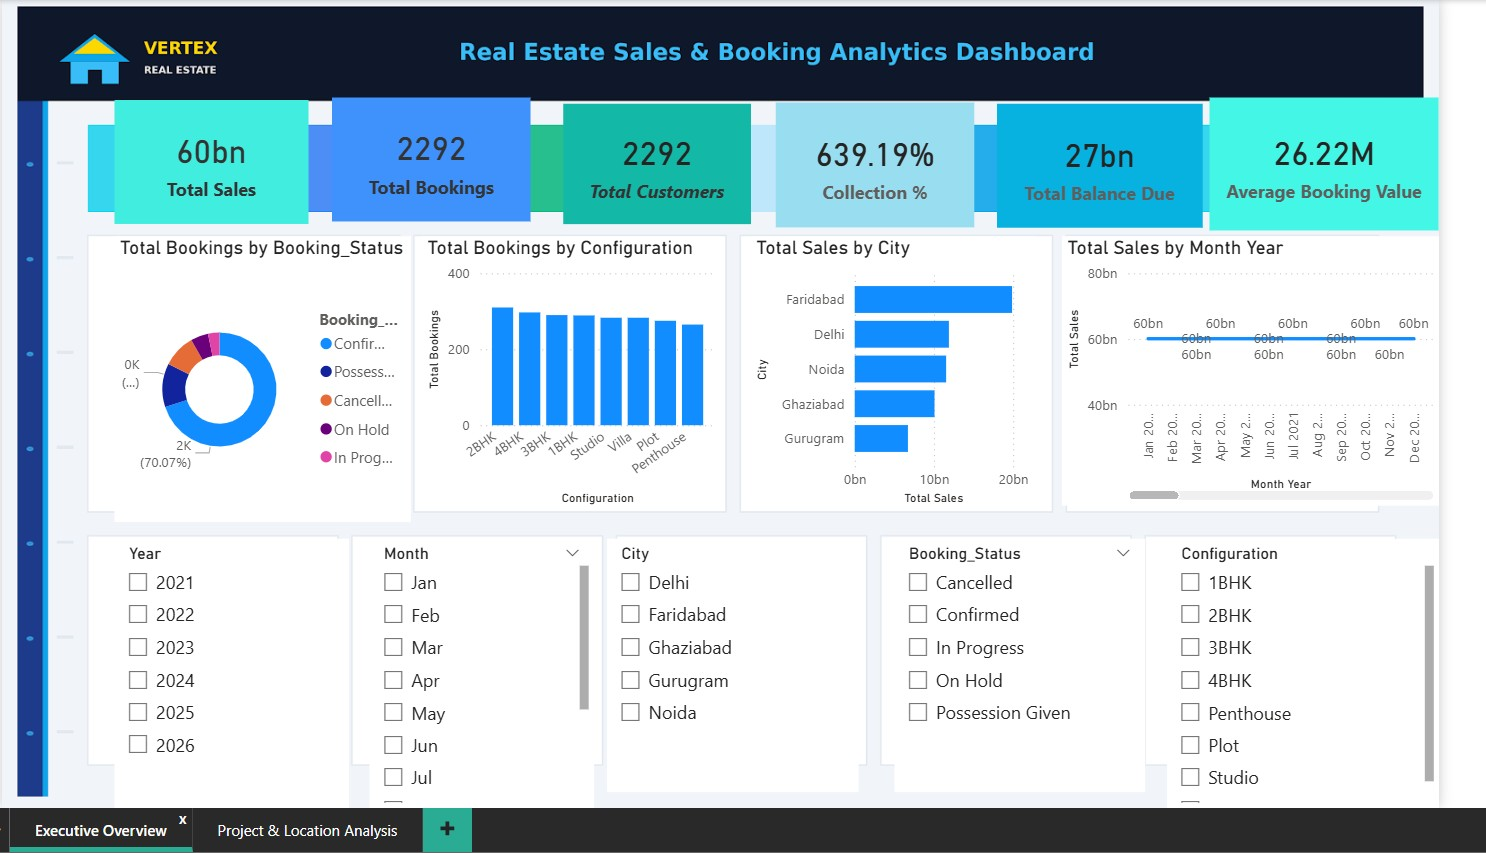

The dashboard page shown, as its layout file describes it:
{"tool":"powerbi","page":{"name":"Executive Overview","canvas":[1280,720],"ordinal":0},"visuals":[{"type":"card","fields":{"Values":["Measures (2).Total Sales"]},"box":[100,88.6,172.9,110],"z":1000},{"type":"card","fields":{"Values":["Measures (2).Total Bookings"]},"box":[294.3,87.1,177.1,110],"z":2000},{"type":"card","fields":{"Values":["Measures (2).Total Customers"]},"box":[500,92.9,167.1,107.1],"z":3000},{"type":"card","fields":{"Values":["Measures (2).Collection %"]},"box":[688.6,91.4,177.1,111.4],"z":4000},{"type":"card","fields":{"Values":["Measures (2).Total Balance Due"]},"box":[885.7,92.9,182.9,110],"z":5000},{"type":"card","fields":{"Values":["Advanced_KPI_Measures.Average Booking Value"]},"box":[1075.7,87.1,204.3,118.6],"z":6000},{"type":"lineChart","fields":{"Category":["Date_Table.Month Year"],"Y":["Measures (2).Total Sales"]},"box":[944.3,210,335.7,240],"z":7000},{"type":"clusteredBarChart","fields":{"Category":["Locations.City"],"Y":["Measures (2).Total Sales"]},"box":[667.1,210,252.9,244.3],"z":8000},{"type":"donutChart","fields":{"Category":["Bookings.Booking_Status"],"Y":["Measures (2).Total Bookings"]},"box":[100,210,264.3,254.3],"z":9000},{"type":"clusteredColumnChart","fields":{"Category":["Bookings.Configuration"],"Y":["Measures (2).Total Bookings"]},"box":[374.3,210,265.7,244.3],"z":10000},{"type":"slicer","fields":{"Values":["Date_Table.Year"]},"box":[100,480,208.6,240],"z":11000},{"type":"slicer","fields":{"Values":["Date_Table.Month"]},"box":[327.1,480,200,240],"z":12000},{"type":"slicer","fields":{"Values":["Locations.City"]},"box":[538.6,480,224.3,225.7],"z":13000},{"type":"slicer","fields":{"Values":["Bookings.Booking_Status"]},"box":[794.3,480,222.9,225.7],"z":14000},{"type":"slicer","fields":{"Values":["Bookings.Configuration"]},"box":[1037.1,480,242.9,240],"z":15000}]}

Visuals, with their boxes on the page's 1280x720 design canvas (x1, y1, x2, y2). These are canvas units, not pixel positions in the 1486x853 screenshot, which may show the page scaled, cropped or inside an application window:
card - Measures (2).Total Sales: 100 89 273 199
card - Measures (2).Total Bookings: 294 87 471 197
card - Measures (2).Total Customers: 500 93 667 200
card - Measures (2).Collection %: 689 91 866 203
card - Measures (2).Total Balance Due: 886 93 1069 203
card - Advanced_KPI_Measures.Average Booking Value: 1076 87 1280 206
lineChart - Date_Table.Month Year x Measures (2).Total Sales: 944 210 1280 450
clusteredBarChart - Locations.City x Measures (2).Total Sales: 667 210 920 454
donutChart - Bookings.Booking_Status x Measures (2).Total Bookings: 100 210 364 464
clusteredColumnChart - Bookings.Configuration x Measures (2).Total Bookings: 374 210 640 454
slicer - Date_Table.Year: 100 480 309 720
slicer - Date_Table.Month: 327 480 527 720
slicer - Locations.City: 539 480 763 706
slicer - Bookings.Booking_Status: 794 480 1017 706
slicer - Bookings.Configuration: 1037 480 1280 720
